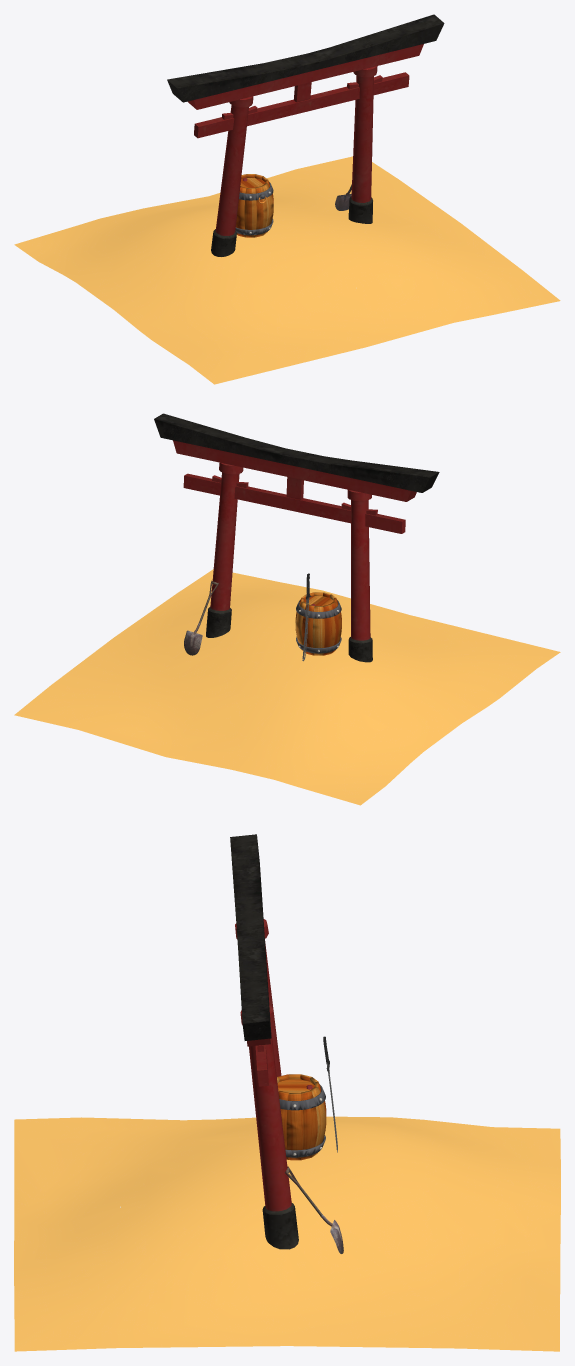
File: island.glb
The picture shows the model from 3 angles, top to bottom: view 1: azimuth 30°, elevation 25°; view 2: azimuth 150°, elevation 25°; view 3: azimuth 270°, elevation 25°; orthographic projection. The views are drawn at different scales.
Parts seen in each view (by area): view 1: Plane.001, Torii3_Torii_0, Barrel; view 2: Plane.001, Torii3_Torii_0, Barrel, shovel; view 3: Plane.001, Torii3_Torii_0, Barrel.
Boxes of the visible parts, left/top/right/bottom form: Plane.001: left=14, top=156, right=560, bottom=384; Torii3_Torii_0: left=167, top=14, right=444, bottom=256; Barrel: left=235, top=174, right=273, bottom=237; Plane.001: left=14, top=569, right=560, bottom=805; Torii3_Torii_0: left=154, top=413, right=439, bottom=662; Barrel: left=295, top=592, right=341, bottom=655; shovel: left=184, top=580, right=218, bottom=655; Plane.001: left=14, top=1036, right=560, bottom=1351; Torii3_Torii_0: left=230, top=834, right=298, bottom=1249; Barrel: left=277, top=1074, right=326, bottom=1160.
Size of the model in its own units: 232 by 150 by 232.
Materials: 10 (10 with a texture image).
